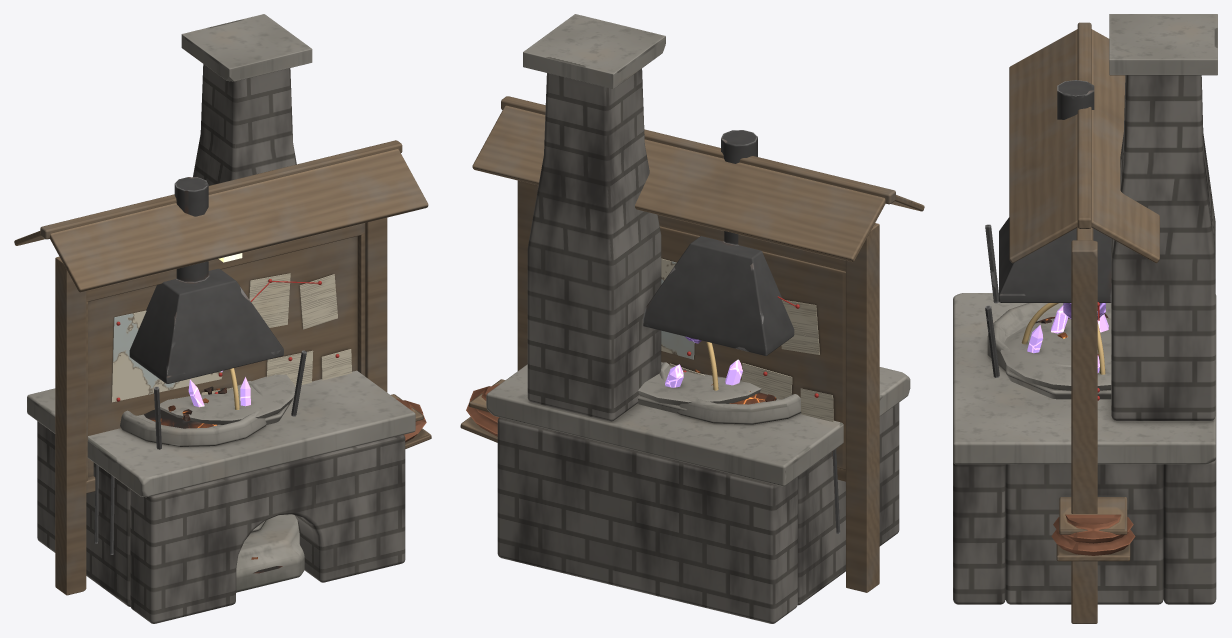
File: Stations.gltf
The picture shows the model from 3 angles, left to right: view 1: azimuth 30°, elevation 25°; view 2: azimuth 150°, elevation 25°; view 3: azimuth 270°, elevation 25°; orthographic projection. The views are drawn at different scales.
Parts seen in each view (by area): view 1: Forge, MissionBoard, GemAltar; view 2: Forge, MissionBoard, GemAltar; view 3: Forge, MissionBoard, GemAltar.
Boxes of the visible parts, x1,y1,x2,y2 form: Forge: (27, 14, 431, 623); MissionBoard: (14, 140, 428, 595); GemAltar: (160, 368, 304, 592); Forge: (460, 14, 910, 623); MissionBoard: (472, 96, 924, 592); GemAltar: (637, 336, 761, 413); Forge: (953, 14, 1217, 604); MissionBoard: (1009, 22, 1159, 623); GemAltar: (1000, 303, 1111, 399).
Size of the model in its own units: 2.86 by 3.35 by 1.51.
Materials: 15 (15 with a texture image).
